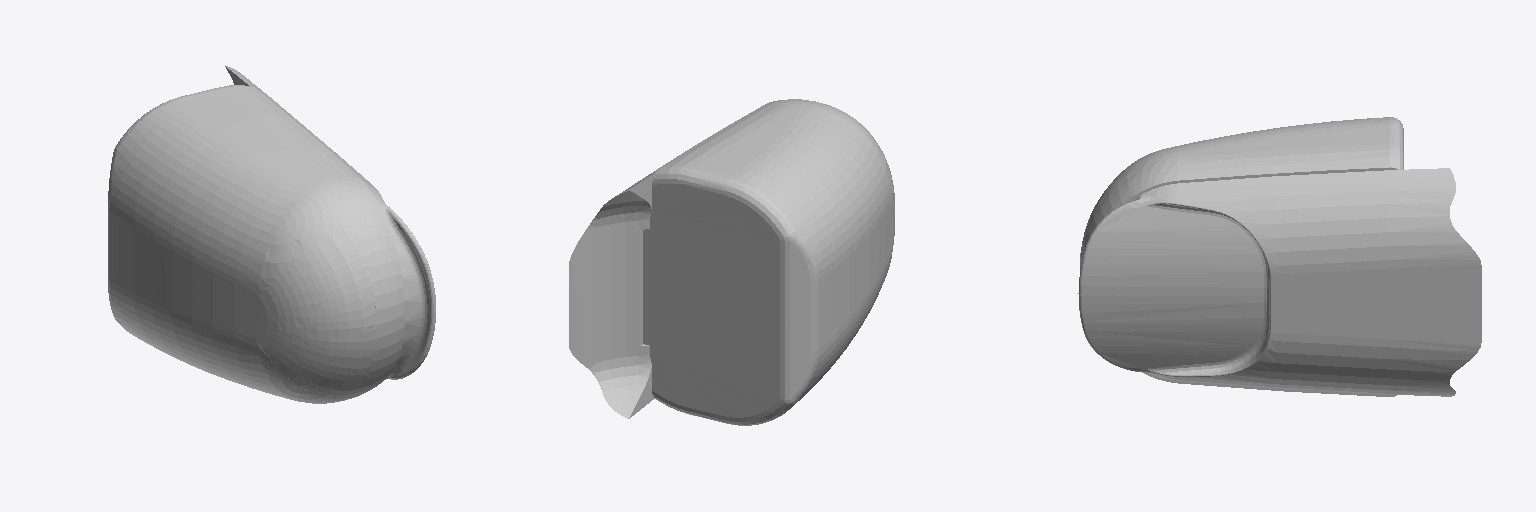
File: th_distal_pst.obj
3 views of the same model, side by side, from view 1: azimuth 30°, elevation 25°; view 2: azimuth 150°, elevation 25°; view 3: azimuth 270°, elevation 25° (orthographic).
Visible parts, largest first — view 1: th_distal_pst; view 2: th_distal_pst; view 3: th_distal_pst.
Boxes of the visible parts, <box> form: th_distal_pst: <box>108,66,435,403</box>; th_distal_pst: <box>569,99,894,425</box>; th_distal_pst: <box>1078,117,1481,396</box>.
Bounding box in the file's own units: 0.0179 × 0.0212 × 0.0316.